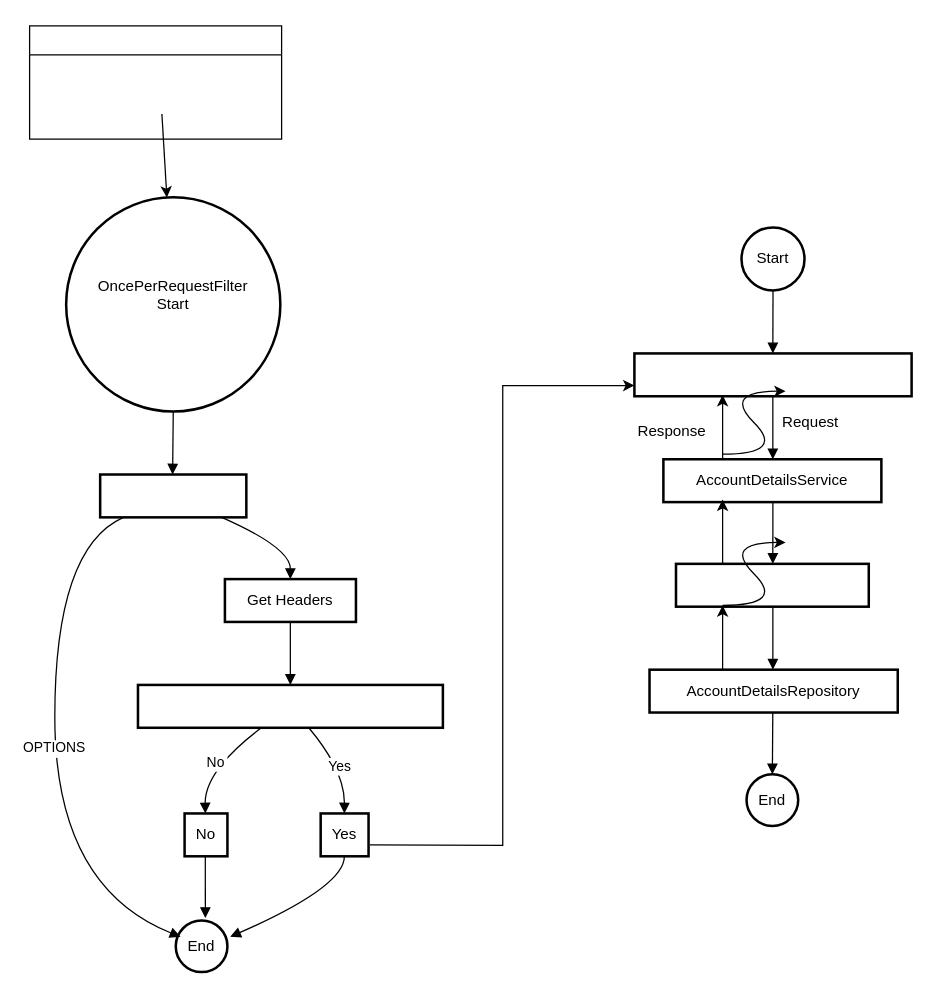
Image size: 934x995. Some labels were removed from this diagram. Each missing label, with the box of its shape:
AccountDetailsImpl: (674, 562, 869, 607)
AccountStatementController: (633, 352, 912, 397)
Check Method: (98, 473, 247, 518)
Front End: (28, 25, 282, 139)
Validate API Key and Secret Key: (136, 683, 444, 728)
